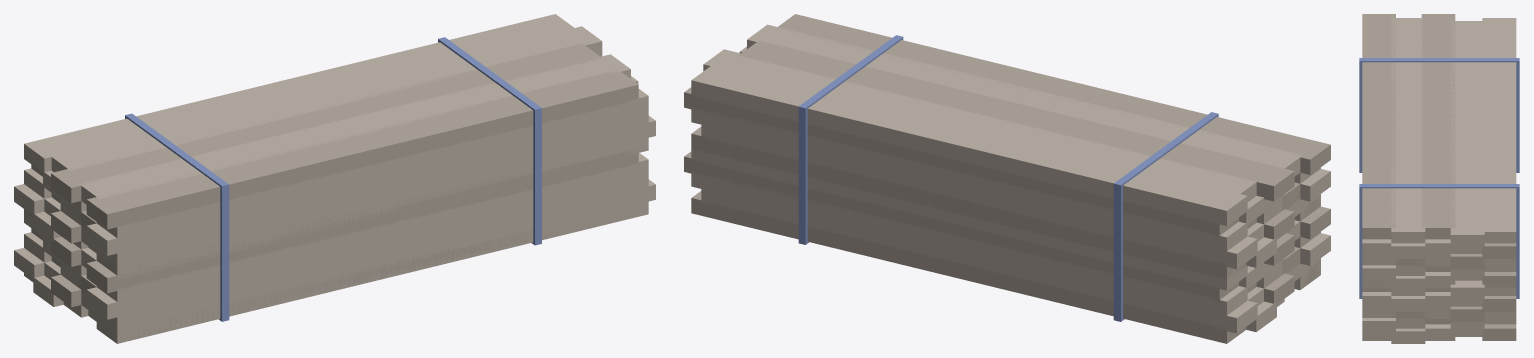
The model's file is crude_timberStack.fbx.
3 renders of one model, left to right at view 1: azimuth 30°, elevation 25°; view 2: azimuth 150°, elevation 25°; view 3: azimuth 270°, elevation 25°, orthographic. The views are drawn at different scales.
Parts seen in each view (by area): view 1: timber:timber39 (×2), timber:timber35 (×2), timber:timber1 (×2), timber:timber12 (×2), timber:timber26 (×2), timber:timber40, timber:timber43 (×2), timber:timber41, timber:timber22 (×2), timber:timber38, timber:timber21 (×2), timber:timber (×2) (+6 smaller); view 2: timber:timber40 (×2), timber:timber33 (×2), timber:timber5 (×2), timber:timber16 (×2), timber:timber30 (×2), timber:timber43 (×2), timber:timber39 (×2), timber:timber41, timber:timber38, timber:band (×2), timber:band1 (×2), timber:timber35 (×2) (+2 smaller); view 3: timber:timber38 (×2), timber:timber40 (×2), timber:timber43, timber:timber39, timber:timber41 (×2), timber:band1 (×2), timber:band (×2), timber:timber5 (×2), timber:timber24 (×2), timber:timber30 (×2), timber:timber27 (×2), timber:timber17 (×2) (+16 smaller).
Boxes of the visible parts, x1=… form: timber:timber39 (×2): x1=86, y1=70, x2=638, y2=293; timber:timber35 (×2): x1=86, y1=114, x2=637, y2=319; timber:timber1 (×2): x1=96, y1=135, x2=648, y2=343; timber:timber12 (×2): x1=97, y1=122, x2=648, y2=330; timber:timber26 (×2): x1=96, y1=89, x2=648, y2=304; timber:timber40: x1=24, y1=14, x2=574, y2=172; timber:timber43 (×2): x1=51, y1=43, x2=601, y2=266; timber:timber41: x1=80, y1=54, x2=630, y2=204; timber:timber22 (×2): x1=98, y1=89, x2=648, y2=303; timber:timber38: x1=51, y1=26, x2=602, y2=172; timber:timber21 (×2): x1=117, y1=111, x2=648, y2=316; timber:timber (×2): x1=97, y1=138, x2=648, y2=343; timber:timber40 (×2): x1=691, y1=65, x2=1247, y2=290; timber:timber33 (×2): x1=691, y1=107, x2=1247, y2=316; timber:timber5 (×2): x1=691, y1=127, x2=1246, y2=343; timber:timber16 (×2): x1=701, y1=124, x2=1257, y2=333; timber:timber30 (×2): x1=684, y1=87, x2=1238, y2=302; timber:timber43 (×2): x1=739, y1=40, x2=1294, y2=265; timber:timber39 (×2): x1=778, y1=14, x2=1330, y2=239; timber:timber41: x1=747, y1=24, x2=1302, y2=176; timber:timber38: x1=703, y1=49, x2=1256, y2=201; timber:band (×2): x1=1113, y1=112, x2=1218, y2=321; timber:band1 (×2): x1=798, y1=35, x2=903, y2=244; timber:timber35 (×2): x1=1300, y1=169, x2=1330, y2=265; timber:timber38 (×2): x1=1450, y1=21, x2=1484, y2=300; timber:timber40 (×2): x1=1482, y1=18, x2=1516, y2=295; timber:timber43: x1=1421, y1=14, x2=1455, y2=239; timber:timber39: x1=1362, y1=14, x2=1395, y2=239; timber:timber41 (×2): x1=1391, y1=18, x2=1425, y2=295; timber:band1 (×2): x1=1359, y1=184, x2=1519, y2=298; timber:band (×2): x1=1359, y1=58, x2=1519, y2=172; timber:timber5 (×2): x1=1482, y1=272, x2=1516, y2=340; timber:timber24 (×2): x1=1391, y1=243, x2=1425, y2=311; timber:timber30 (×2): x1=1482, y1=243, x2=1516, y2=311; timber:timber27 (×2): x1=1450, y1=254, x2=1484, y2=321; timber:timber17 (×2): x1=1362, y1=265, x2=1395, y2=333.
Size of the model in its own units: 195 by 46 by 59.64.
